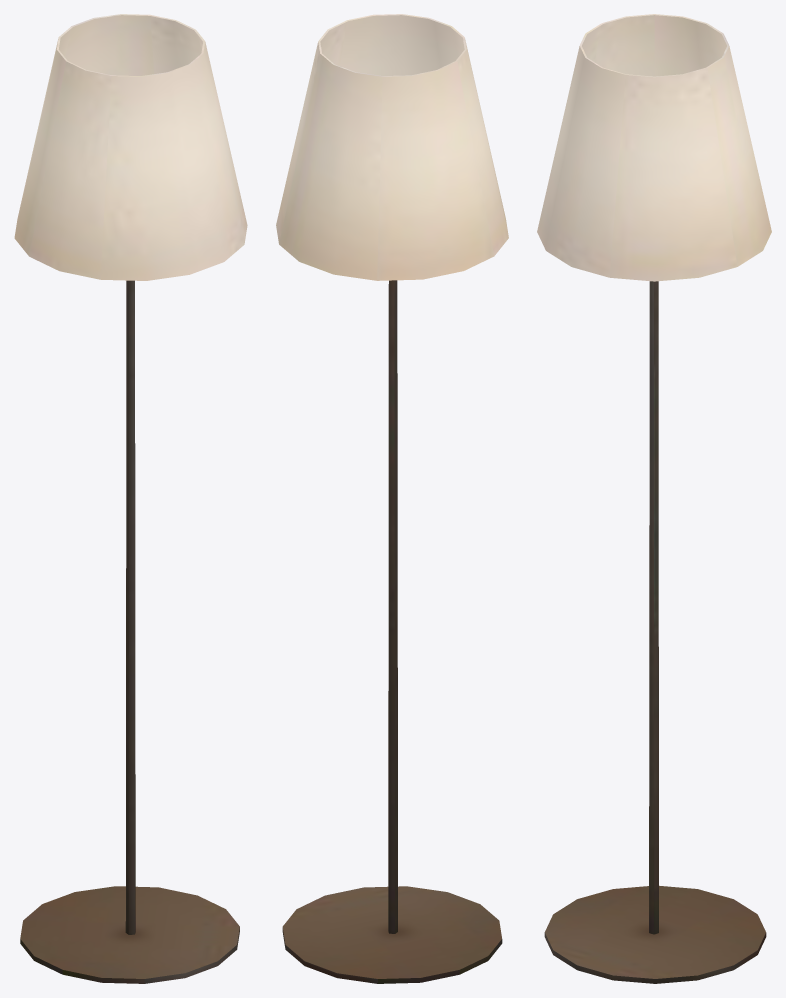
The model's file is lamp_3.glb.
The picture shows the model from 3 angles, left to right: view 1: azimuth 30°, elevation 25°; view 2: azimuth 150°, elevation 25°; view 3: azimuth 270°, elevation 25°; orthographic projection.
Parts seen in each view (by area): view 1: lamp3; view 2: lamp3; view 3: lamp3.
Boxes of the visible parts, <box> form: lamp3: <box>14,14,247,983</box>; lamp3: <box>276,14,508,983</box>; lamp3: <box>537,14,771,983</box>.
Size of what is drawn, in the model's own units: 0.3453 by 1.45 by 0.3453.
Materials: 1 (1 with a texture image).
